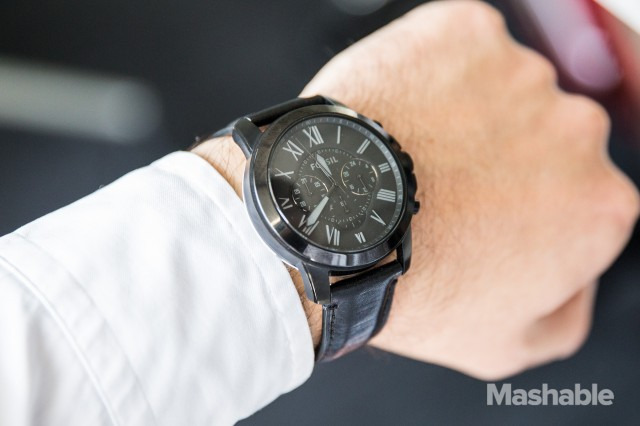clock: (244, 104, 421, 276)
